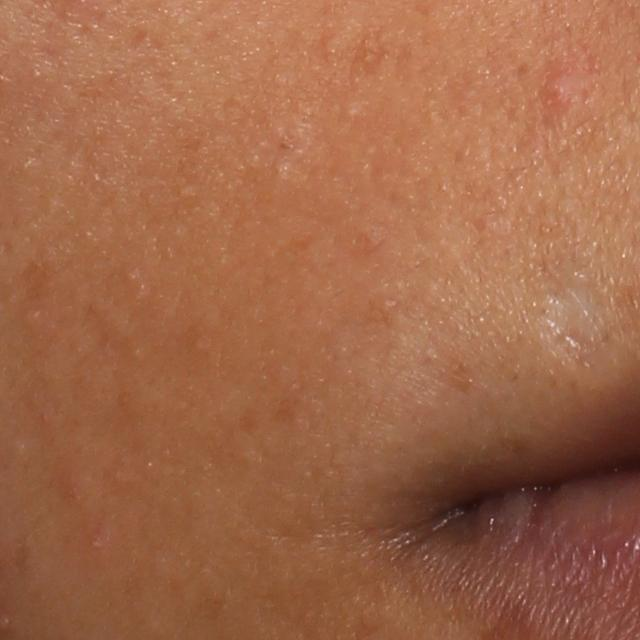papule: (535, 59, 582, 113)
